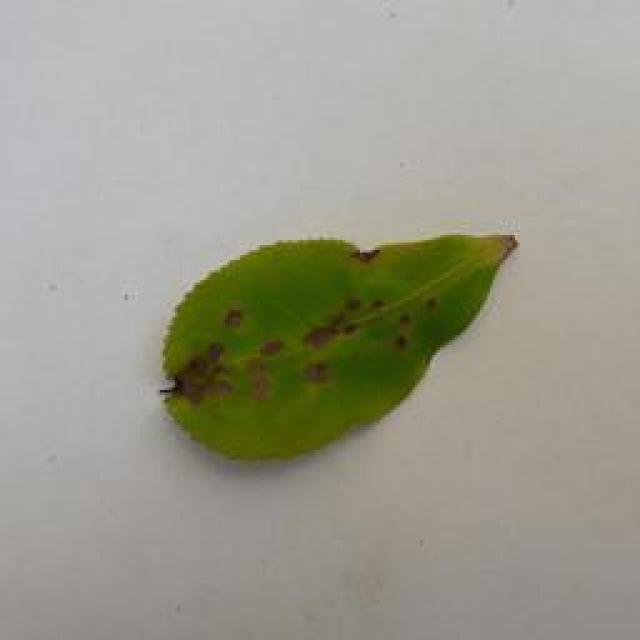Helopeltis: (158, 222, 522, 466)
